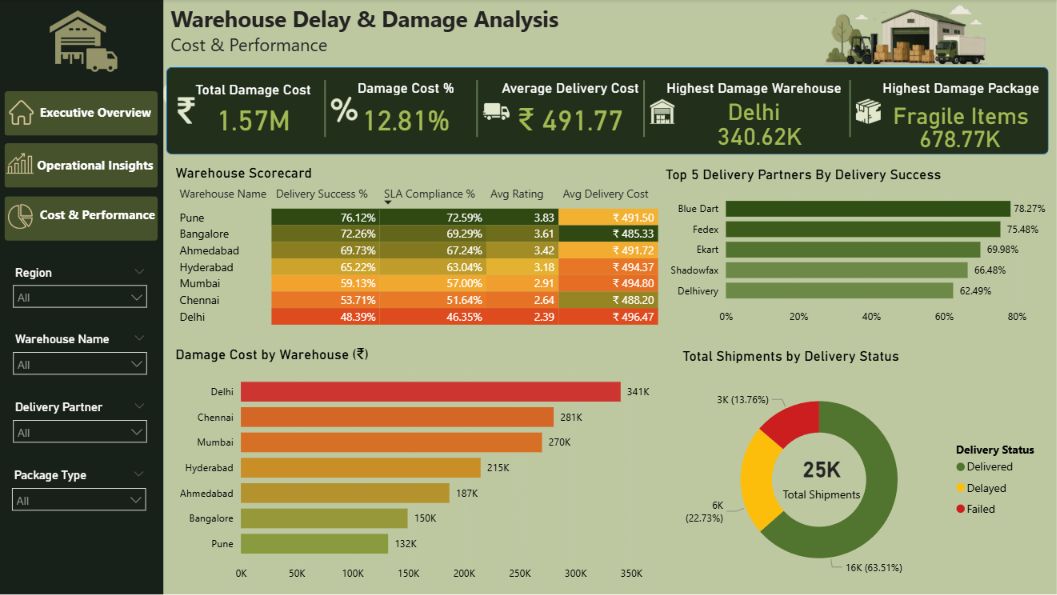

The page's visual inventory and layout, read from the dashboard file:
{"tool":"powerbi","page":{"name":"Cost & Performance","canvas":[1280,720],"ordinal":2},"visuals":[{"type":"group","id":"g1","title":"Group 21","box":[0,0,199,720.2],"z":0,"group":"g16"},{"type":"shape","box":[0,0,199,720.2],"z":0,"group":"g1"},{"type":"group","id":"g2","title":"Group 1","box":[184.3,93.1,59.9,42.8],"z":0},{"type":"group","id":"g3","title":"Group 6","box":[572.3,96.5,211.9,74.6],"z":0,"group":"g6"},{"type":"group","id":"g4","title":"Group 11","box":[368.2,97.6,685.2,68.5],"z":0,"group":"g19"},{"type":"group","id":"g5","title":"Group 17","box":[7.3,173.6,185,53.8],"z":0,"group":"g13"},{"type":"shape","box":[7.3,237.2,185,53.8],"z":0,"group":"g18"},{"type":"textbox","box":[27.9,91.8,135.7,35.9],"z":1000},{"type":"group","id":"g6","title":"Group 12","box":[198.1,96.4,1081,101.5],"z":1000,"group":"g19"},{"type":"group","id":"g7","title":"Group 7","box":[388.6,96.8,188.6,74.6],"z":1000,"group":"g6"},{"type":"shape","box":[7.3,111.3,185,53.8],"z":1000,"group":"g11"},{"type":"textbox","box":[14.6,244.5,179.8,33],"z":1000,"group":"g18"},{"type":"slicer","fields":{"Values":["Fact_Warehouse_Operations.region"]},"box":[7.2,316.1,182.2,68.8],"z":1000,"group":"g1"},{"type":"slicer","fields":{"Values":["Fact_Warehouse_Operations.package_type"]},"box":[6.1,561.3,182.2,68.5],"z":1000,"group":"g16"},{"type":"group","id":"g8","title":"Group 8","box":[198.1,98.8,192,69.7],"z":2000,"group":"g6"},{"type":"textbox","box":[11,121.1,178.5,35.5],"z":2000,"group":"g11"},{"type":"pivotTable","title":"Warehouse Scorecard","fields":{"Rows":["Fact_Warehouse_Operations.warehouse_name"],"Values":["Fact_Warehouse_Operations.Delivery Success %","Fact_Warehouse_Operations.SLA Compliance %","Fact_Warehouse_Operations.Avg Rating","Fact_Warehouse_Operations.Avg Delivery Cost"]},"box":[209.1,199.3,604.1,205.4],"z":2000},{"type":"slicer","fields":{"Values":["Fact_Warehouse_Operations.delivery_partner"]},"box":[7.2,479,182.2,68.8],"z":2000,"group":"g1"},{"type":"group","id":"g9","title":"Group 9","box":[772.8,96.4,257.6,97.8],"z":3000,"group":"g6"},{"type":"barChart","title":"Top 5 Delivery Partners By Delivery Success","fields":{"Y":["Fact_Warehouse_Operations.Delivery Success %"],"Category":["Fact_Warehouse_Operations.delivery_partner"]},"box":[799.4,201.8,480.6,199.3],"z":3000},{"type":"slicer","fields":{"Values":["Fact_Warehouse_Operations.warehouse_name"]},"box":[7.2,396.9,182.2,68.8],"z":3000,"group":"g1"},{"type":"shape","box":[203,81.7,1064.3,105.2],"z":4000,"group":"g17"},{"type":"group","id":"g10","title":"Group 10","box":[1020.6,96.4,258.5,101.5],"z":4000,"group":"g6"},{"type":"group","id":"g11","title":"Group 16","box":[7.3,111.3,185,53.8],"z":4000,"group":"g1"},{"type":"clusteredBarChart","title":"Damage Cost by Warehouse (₹)","fields":{"Category":["Fact_Warehouse_Operations.warehouse_name"],"Y":["Sum(Fact_Warehouse_Operations.damage_cost)"]},"box":[209.1,417,607.7,293.5],"z":4000},{"type":"group","id":"g12","title":"Group 14","box":[198.1,81.7,1081,116.2],"z":5000},{"type":"group","id":"g13","title":"Group 19","box":[7.3,173.6,185,53.8],"z":5000,"group":"g1"},{"type":"group","id":"g14","title":"Group 20","box":[7.3,237.2,187.1,53.8],"z":6000,"group":"g1"},{"type":"group","id":"g15","title":"Group 2","box":[820.5,419.4,448.8,300.8],"z":6000},{"type":"group","id":"g16","title":"Group 9","box":[0,0,199,720.2],"z":7000},{"type":"image","box":[43.4,2.4,115.8,94.1],"z":7000,"group":"g1"},{"type":"image","box":[934.2,0,322,91],"z":8000},{"type":"group","id":"g17","title":"Group 3","box":[198.1,81.7,1081,116.2],"z":8001,"group":"g12"},{"type":"textbox","box":[203,0,524.6,96.6],"z":9000},{"type":"actionButton","box":[11,114.9,177.3,40.4],"z":9003,"group":"g16"},{"type":"image","box":[2.4,173.7,47.1,49.5],"z":10000},{"type":"shape","box":[7.3,173.6,185,53.8],"z":11000,"group":"g5"},{"type":"actionButton","box":[7.3,178.5,181,40.4],"z":11000},{"type":"textbox","box":[13.4,184.6,178.5,35.5],"z":12000,"group":"g5"},{"type":"image","box":[6.1,242.1,40.4,39.1],"z":12000},{"type":"donutChart","title":"Total Shipments by Delivery Status","fields":{"Category":["Fact_Warehouse_Operations.delivery_status"],"Y":["Fact_Warehouse_Operations.Total Shipments"]},"box":[820.5,419.4,448.8,300.8],"z":12000,"group":"g15"},{"type":"card","fields":{"Values":["Fact_Warehouse_Operations.Total Shipments"]},"box":[916.7,532.6,152.9,83.9],"z":13000,"group":"g15"},{"type":"image","box":[184.3,93.1,59.9,42.8],"z":14000,"group":"g2"},{"type":"shape","box":[368.2,97.6,52.2,68.5],"z":15000,"group":"g4"},{"type":"group","id":"g18","title":"Group 18","box":[7.3,237.2,187.1,53.8],"z":15000,"group":"g14"},{"type":"card","title":"Total Damage Cost","fields":{"Values":["Fact_Warehouse_Operations.Total Damage Cost"]},"box":[226,98.8,164,69.7],"z":16000,"group":"g8"},{"type":"shape","box":[551.7,97.6,52.2,68.5],"z":17000,"group":"g4"},{"type":"image","box":[7.3,117.4,40.4,39.1],"z":17005,"group":"g11"},{"type":"card","title":"Average Delivery Cost","fields":{"Values":["Fact_Warehouse_Operations.Avg Delivery Cost"]},"box":[595.8,96.5,188.3,74.6],"z":18000,"group":"g3"},{"type":"shape","box":[753.3,97.6,52.2,68.5],"z":18000,"group":"g4"},{"type":"card","title":"Highest Damage Warehouse","fields":{"Values":["Fact_Warehouse_Operations.Highest Damage Warehouse"]},"box":[794.7,96.4,235.7,57.5],"z":19000,"group":"g9"},{"type":"card","title":"Avg Delivery Time","fields":{"Values":["Fact_Warehouse_Operations.Highest Damage Warehouse Cost"]},"box":[843.3,134.3,153.1,59.9],"z":20000,"group":"g9"},{"type":"shape","box":[1001.2,97.6,52.2,68.5],"z":21000,"group":"g4"},{"type":"card","title":"Damage Cost %","fields":{"Values":["Fact_Warehouse_Operations.Damage Cost %"]},"box":[407.1,96.8,170.1,74.6],"z":22000,"group":"g7"},{"type":"card","title":"Highest Damage Package","fields":{"Values":["Fact_Warehouse_Operations.Highest Damage Package"]},"box":[1043.4,96.4,235.7,66],"z":23000,"group":"g10"},{"type":"card","title":"Avg Delivery Time","fields":{"Values":["Fact_Warehouse_Operations.Highest Damage Package Cost"]},"box":[1083.8,138,153.1,59.9],"z":24000,"group":"g10"},{"type":"image","box":[198.1,113.5,58.3,41.6],"z":25000,"group":"g8"},{"type":"image","box":[772.8,114.7,58.3,41.6],"z":26000,"group":"g9"},{"type":"image","box":[388.6,112.3,58.3,41.6],"z":27000,"group":"g7"},{"type":"image","box":[572.3,114.8,58.3,41.6],"z":27000,"group":"g3"},{"type":"image","box":[1020.6,114.7,58.3,41.6],"z":28000,"group":"g10"},{"type":"group","id":"g19","title":"Group 13","box":[198.1,96.4,1081,101.5],"z":29007,"group":"g17"}]}

Visuals, with their boxes on the page's 1280x720 design canvas (x1, y1, x2, y2). These are canvas units, not pixel positions in the 1057x595 screenshot, which may show the page scaled, cropped or inside an application window:
"Group 21" group: box(0, 0, 199, 720)
shape: box(0, 0, 199, 720)
"Group 1" group: box(184, 93, 244, 136)
"Group 6" group: box(572, 96, 784, 171)
"Group 11" group: box(368, 98, 1053, 166)
"Group 17" group: box(7, 174, 192, 227)
shape: box(7, 237, 192, 291)
textbox: box(28, 92, 164, 128)
"Group 12" group: box(198, 96, 1279, 198)
"Group 7" group: box(389, 97, 577, 171)
shape: box(7, 111, 192, 165)
textbox: box(15, 244, 194, 278)
slicer - Fact_Warehouse_Operations.region: box(7, 316, 189, 385)
slicer - Fact_Warehouse_Operations.package_type: box(6, 561, 188, 630)
"Group 8" group: box(198, 99, 390, 168)
textbox: box(11, 121, 190, 157)
"Warehouse Scorecard" pivotTable: box(209, 199, 813, 405)
slicer - Fact_Warehouse_Operations.delivery_partner: box(7, 479, 189, 548)
"Group 9" group: box(773, 96, 1030, 194)
"Top 5 Delivery Partners By Delivery Success" barChart: box(799, 202, 1280, 401)
slicer - Fact_Warehouse_Operations.warehouse_name: box(7, 397, 189, 466)
shape: box(203, 82, 1267, 187)
"Group 10" group: box(1021, 96, 1279, 198)
"Group 16" group: box(7, 111, 192, 165)
"Damage Cost by Warehouse (₹)" clusteredBarChart: box(209, 417, 817, 710)
"Group 14" group: box(198, 82, 1279, 198)
"Group 19" group: box(7, 174, 192, 227)
"Group 20" group: box(7, 237, 194, 291)
"Group 2" group: box(820, 419, 1269, 720)
"Group 9" group: box(0, 0, 199, 720)
image: box(43, 2, 159, 96)
image: box(934, 0, 1256, 91)
"Group 3" group: box(198, 82, 1279, 198)
textbox: box(203, 0, 728, 97)
actionButton: box(11, 115, 188, 155)
image: box(2, 174, 50, 223)
shape: box(7, 174, 192, 227)
actionButton: box(7, 178, 188, 219)
textbox: box(13, 185, 192, 220)
image: box(6, 242, 46, 281)
"Total Shipments by Delivery Status" donutChart: box(820, 419, 1269, 720)
card - Fact_Warehouse_Operations.Total Shipments: box(917, 533, 1070, 616)
image: box(184, 93, 244, 136)
shape: box(368, 98, 420, 166)
"Group 18" group: box(7, 237, 194, 291)
"Total Damage Cost" card: box(226, 99, 390, 168)
shape: box(552, 98, 604, 166)
image: box(7, 117, 48, 156)
"Average Delivery Cost" card: box(596, 96, 784, 171)
shape: box(753, 98, 806, 166)
"Highest Damage Warehouse" card: box(795, 96, 1030, 154)
"Avg Delivery Time" card: box(843, 134, 996, 194)
shape: box(1001, 98, 1053, 166)
"Damage Cost %" card: box(407, 97, 577, 171)
"Highest Damage Package" card: box(1043, 96, 1279, 162)
"Avg Delivery Time" card: box(1084, 138, 1237, 198)
image: box(198, 114, 256, 155)
image: box(773, 115, 831, 156)
image: box(389, 112, 447, 154)
image: box(572, 115, 631, 156)
image: box(1021, 115, 1079, 156)
"Group 13" group: box(198, 96, 1279, 198)
